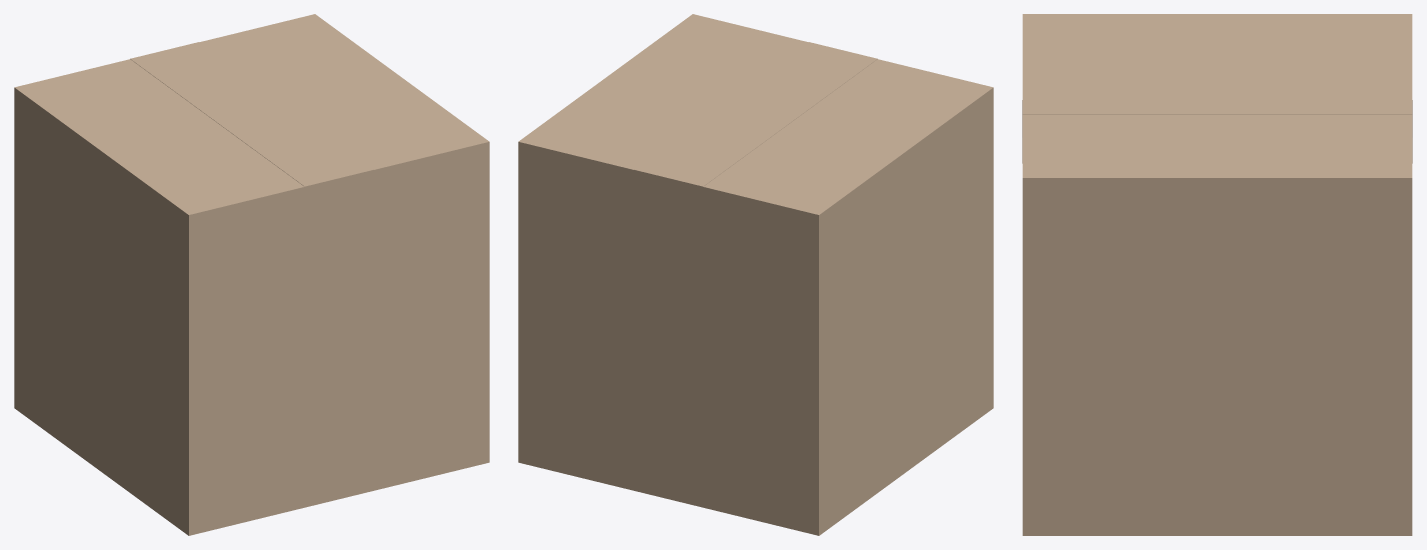
Rendered from boxCUBE.FBX.
3 renders of one model, left to right at view 1: azimuth 30°, elevation 25°; view 2: azimuth 150°, elevation 25°; view 3: azimuth 270°, elevation 25°, orthographic. The views are drawn at different scales.
Parts seen in each view (by area): view 1: boxCUBE; view 2: boxCUBE; view 3: boxCUBE.
Boxes of the visible parts, x1,y1,x2,y2 form: boxCUBE: (14, 14, 489, 535); boxCUBE: (518, 14, 993, 535); boxCUBE: (1022, 14, 1412, 535).
Bounding box in the file's own units: 15.75 × 16.07 × 15.85.
